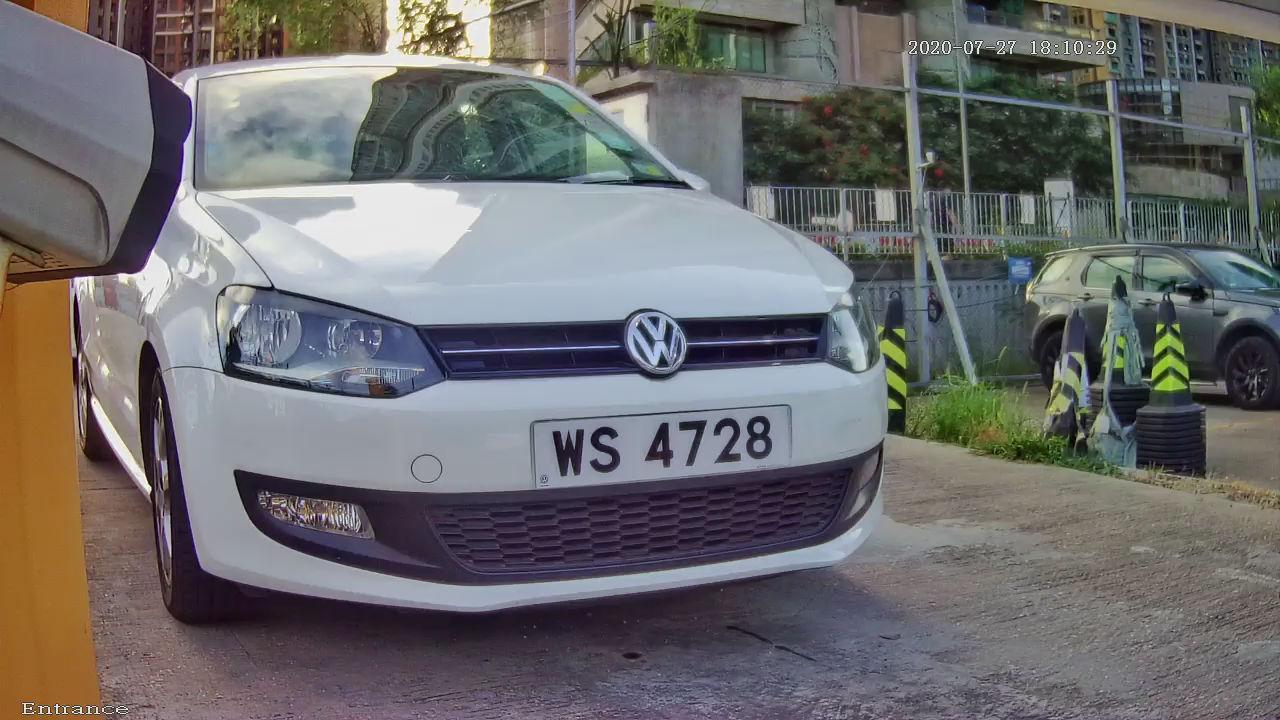privatecar: (75, 17, 983, 656)
